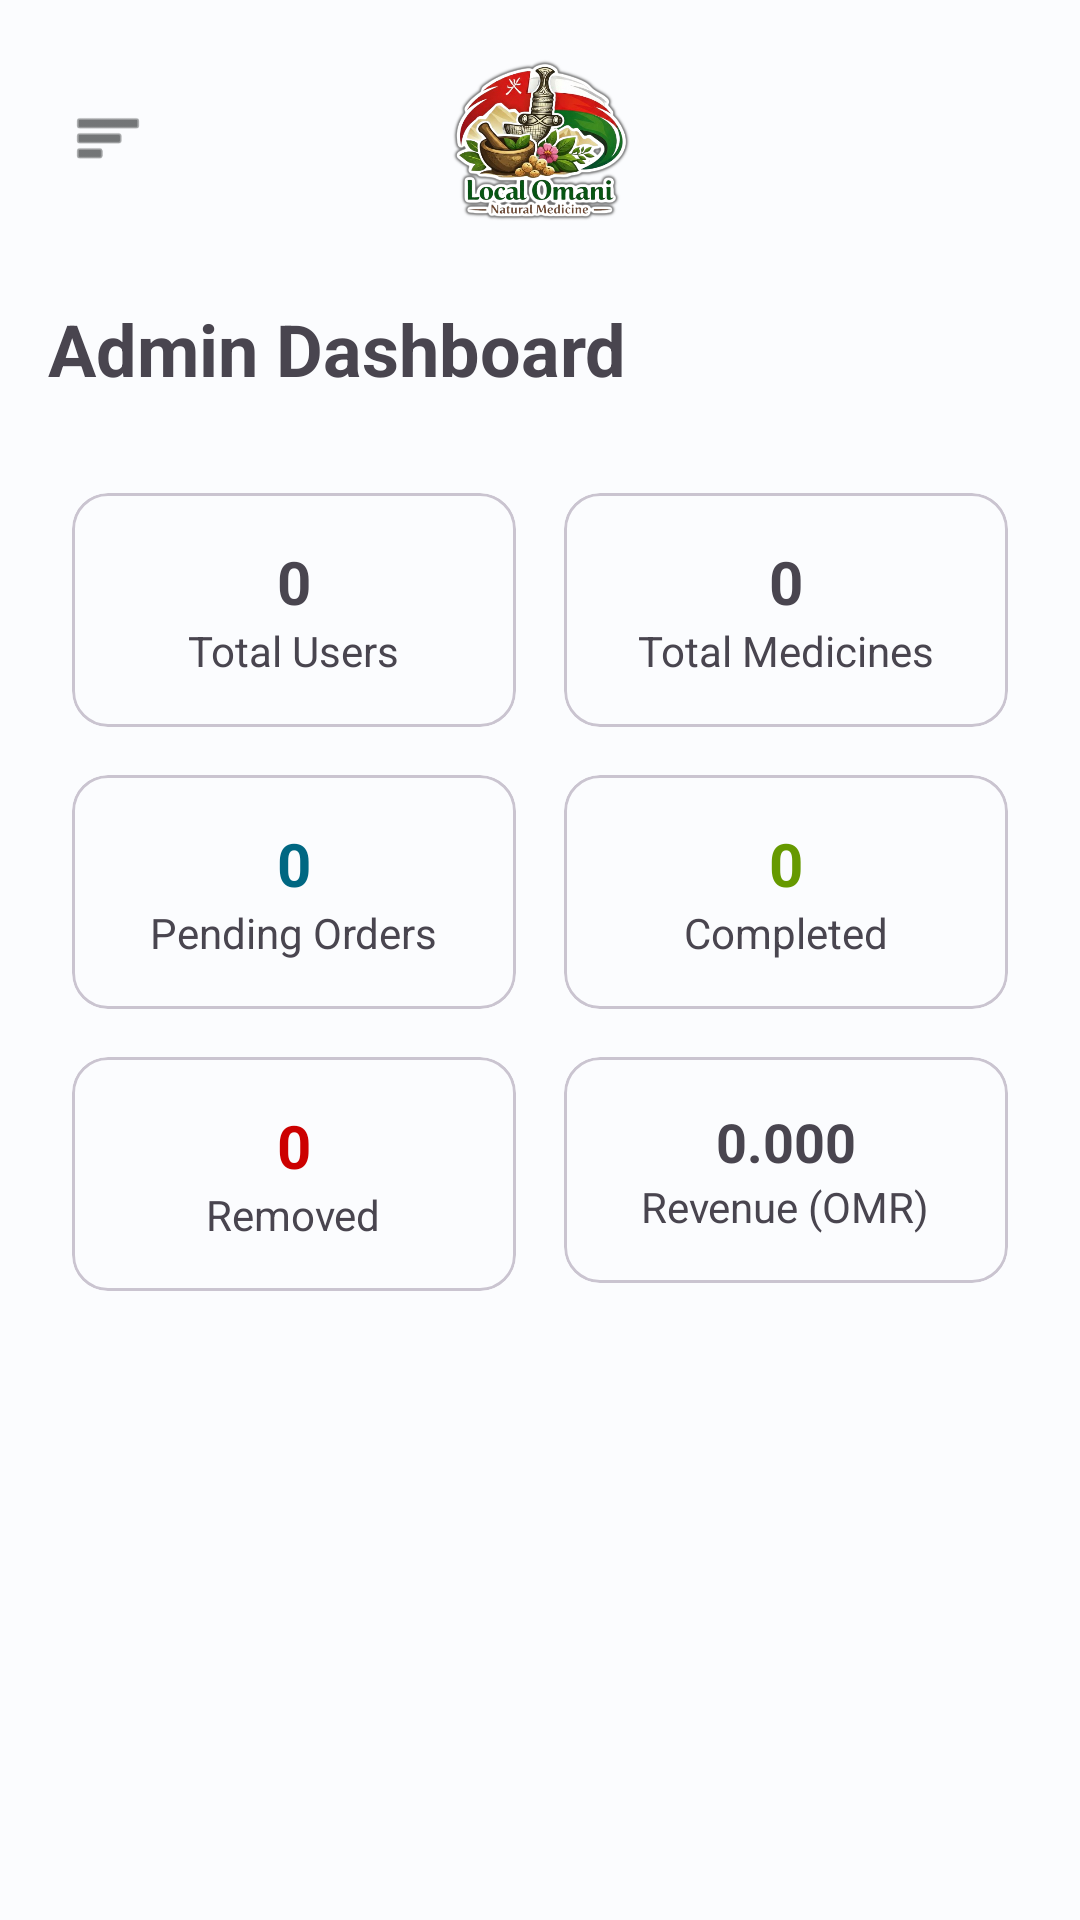

Icons on this 1080×1920 Android screen, each with its box as {"x1": x1, "y1": y1, "x2": x2, "y2": y2}:
sort by size: {"x1": 77, "y1": 118, "x2": 139, "y2": 159}
